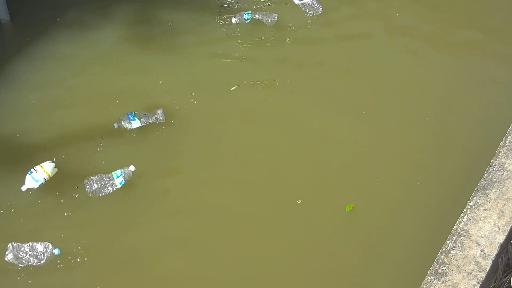leaf: (343, 203, 359, 212)
plastic: (1, 227, 75, 270), (14, 147, 63, 200), (83, 157, 141, 201), (109, 97, 174, 135), (223, 6, 284, 32), (282, 0, 327, 21)
